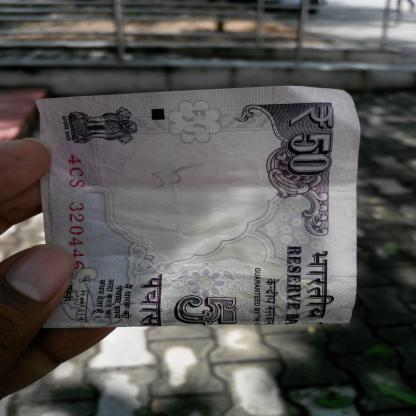Old50Front: (34, 85, 360, 328)
